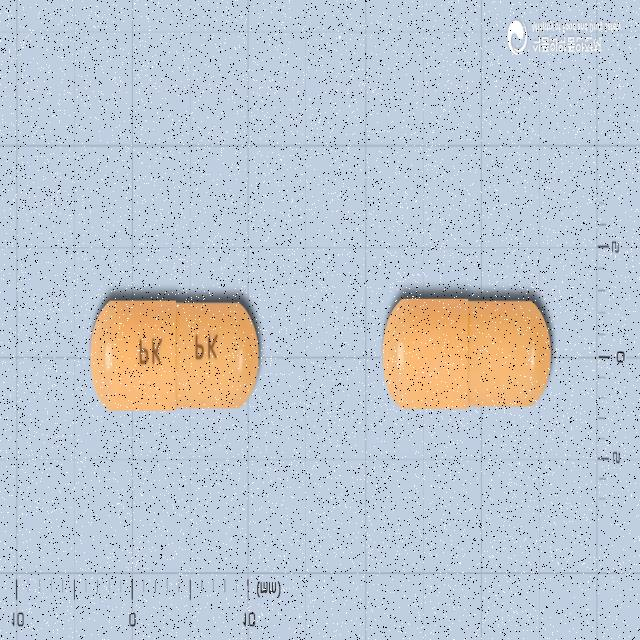Cefac Cap: (89, 295, 262, 417)
